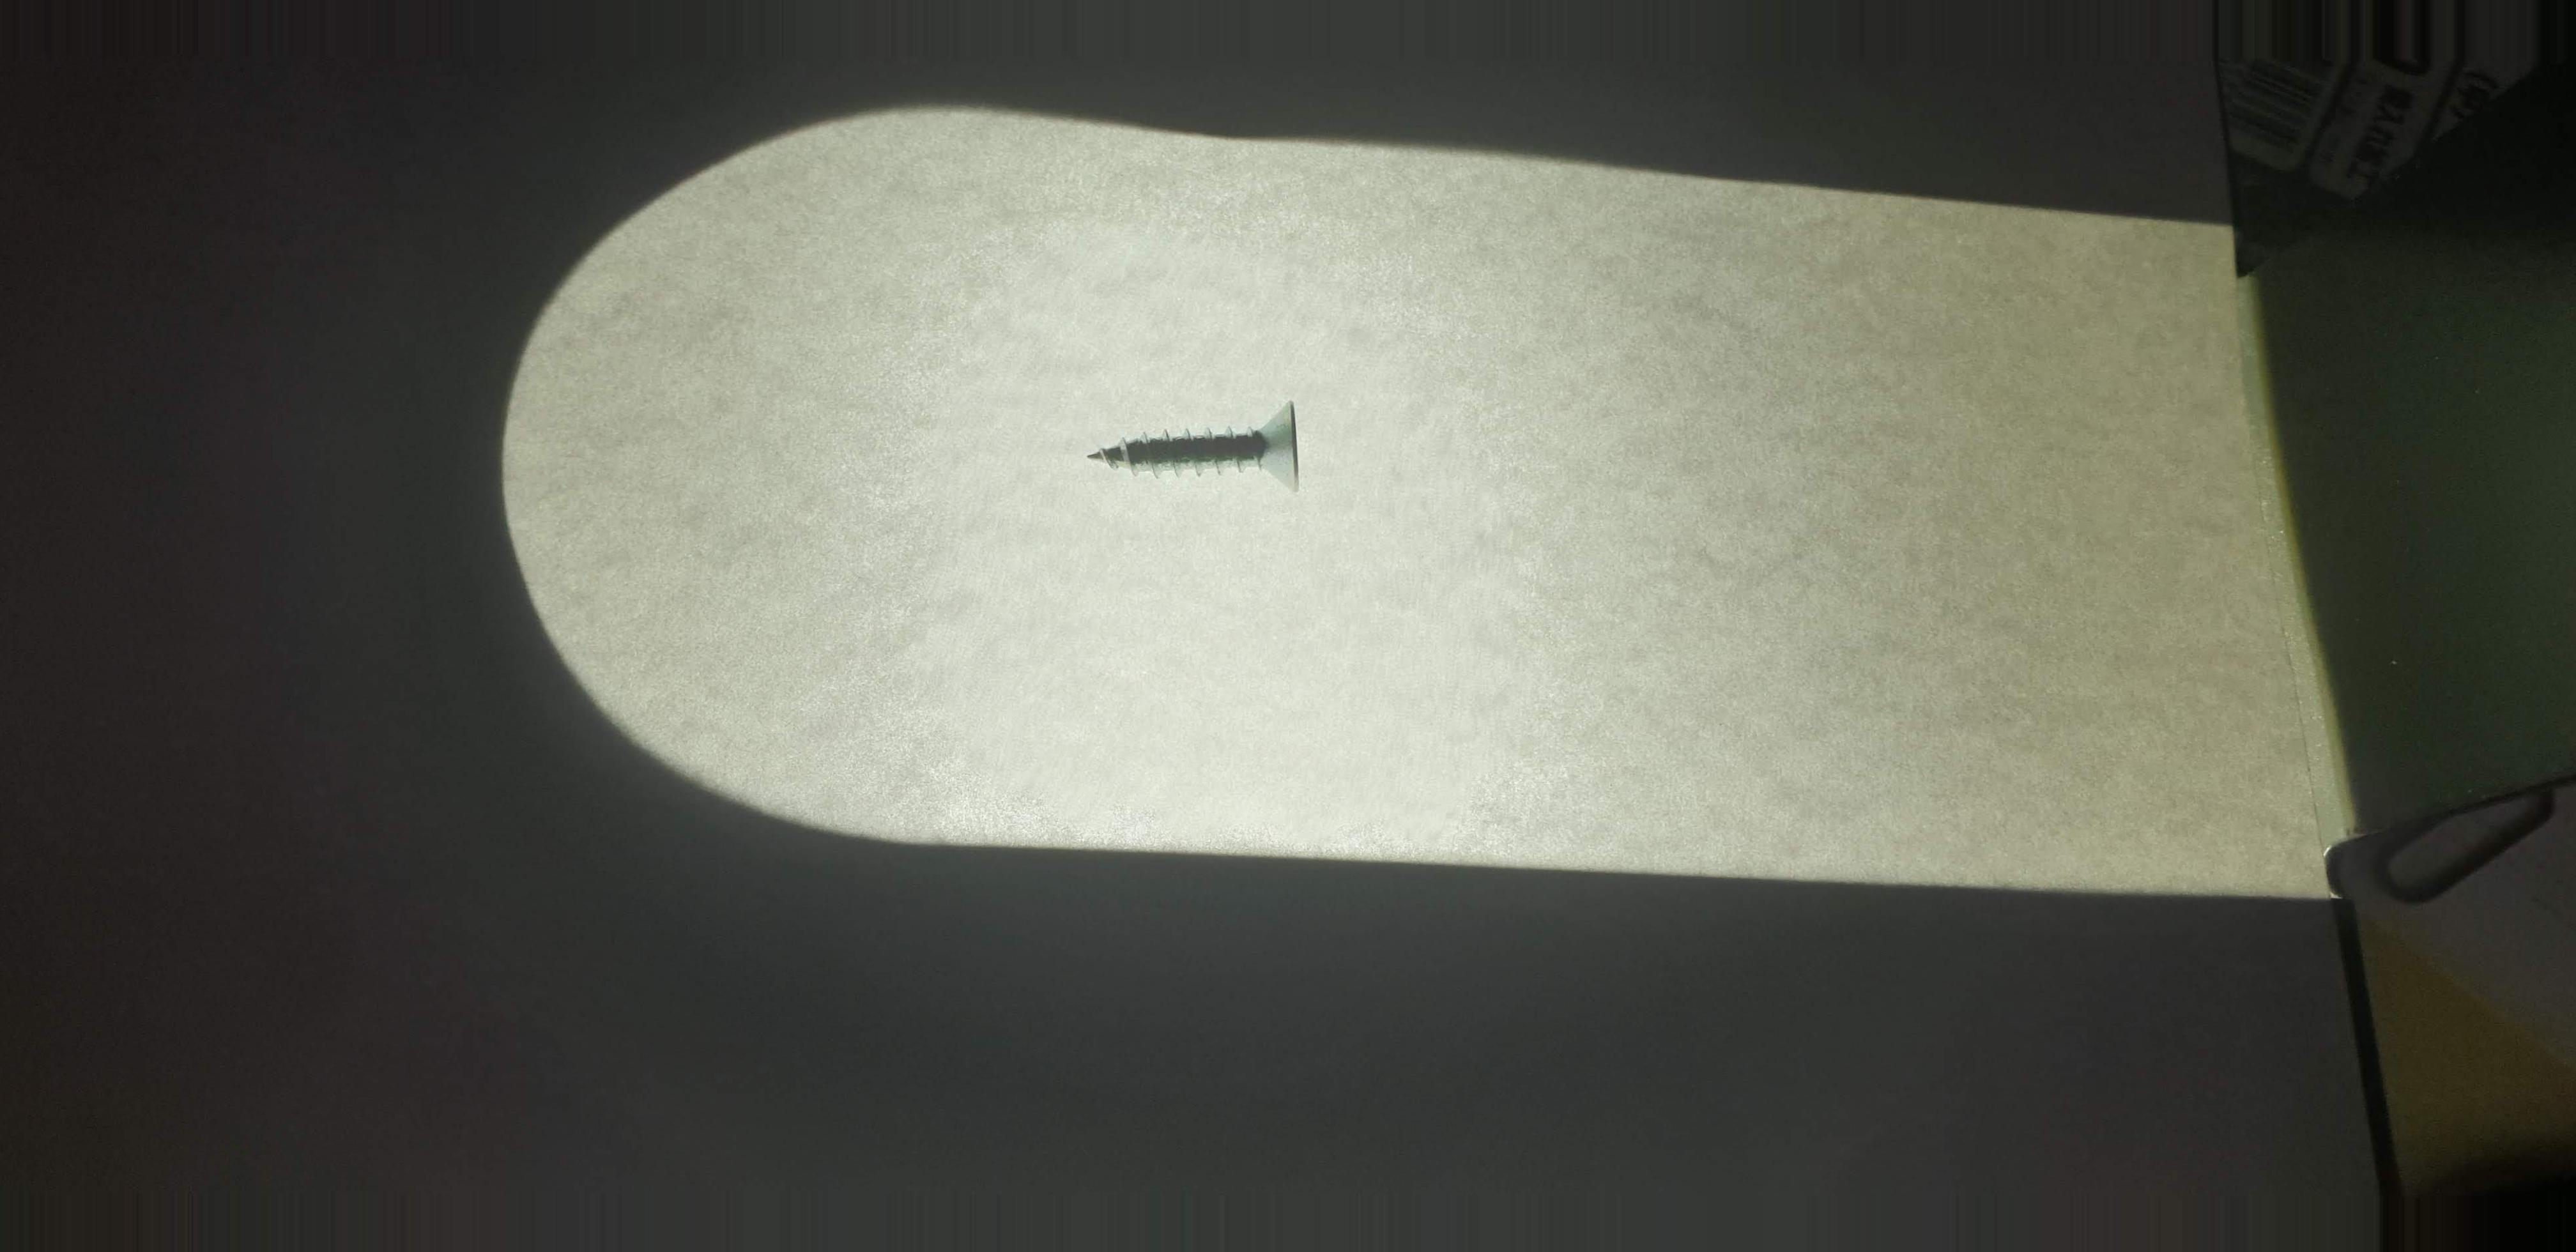S003: (1084, 394, 1329, 498)
